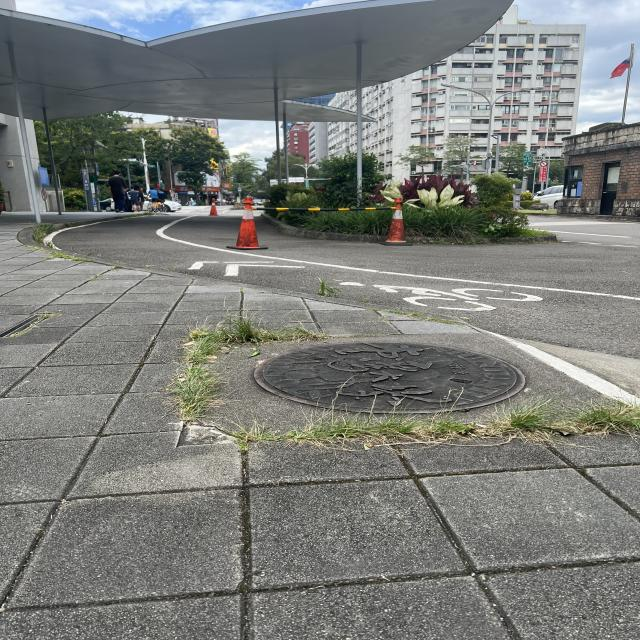cone: (376, 186, 421, 247), (224, 197, 266, 248), (201, 200, 224, 222)
